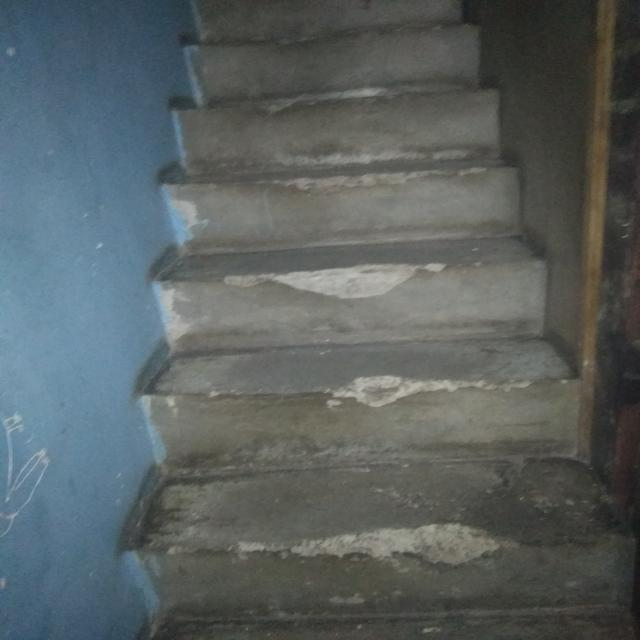Stairs: (145, 117, 588, 463)
